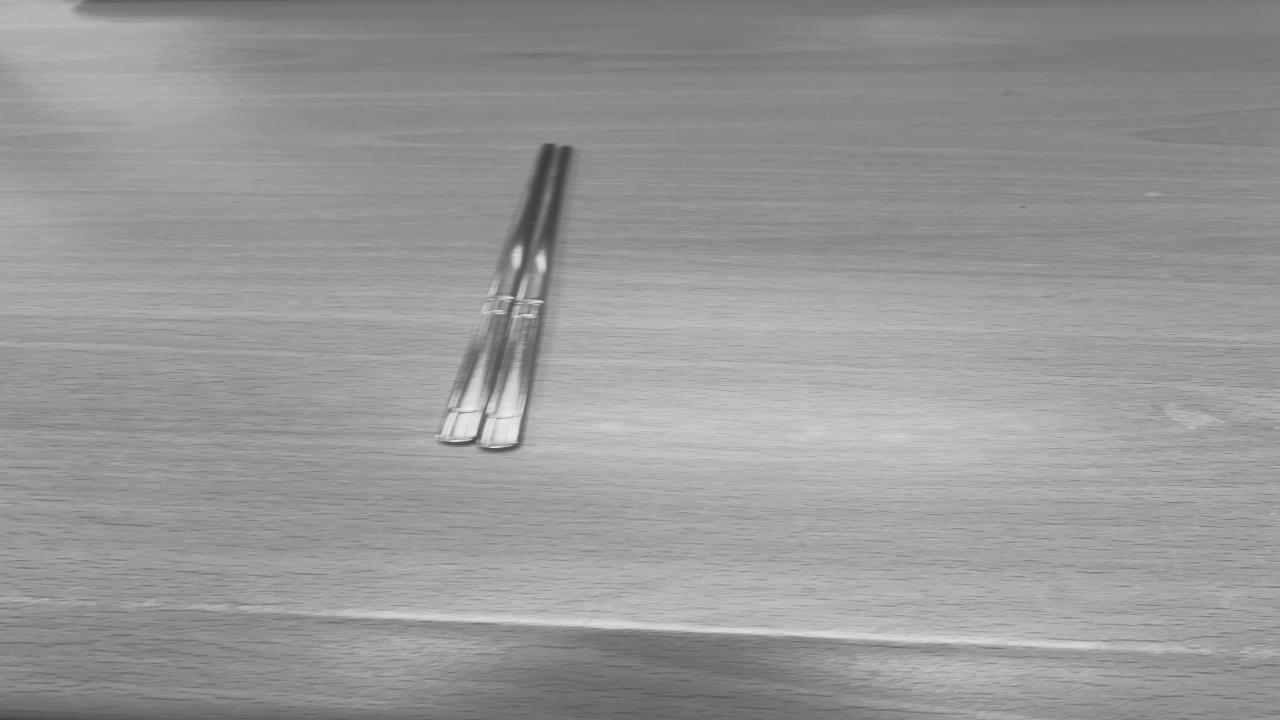chopstick: (440, 145, 565, 448)
